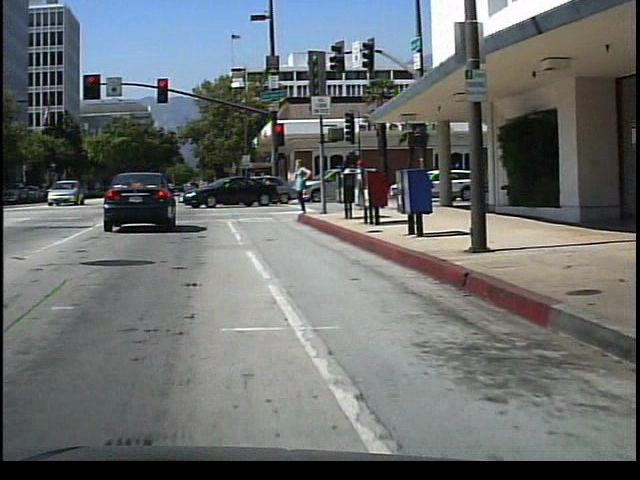person: (292, 152, 319, 218), (355, 154, 374, 210), (341, 155, 360, 210)
